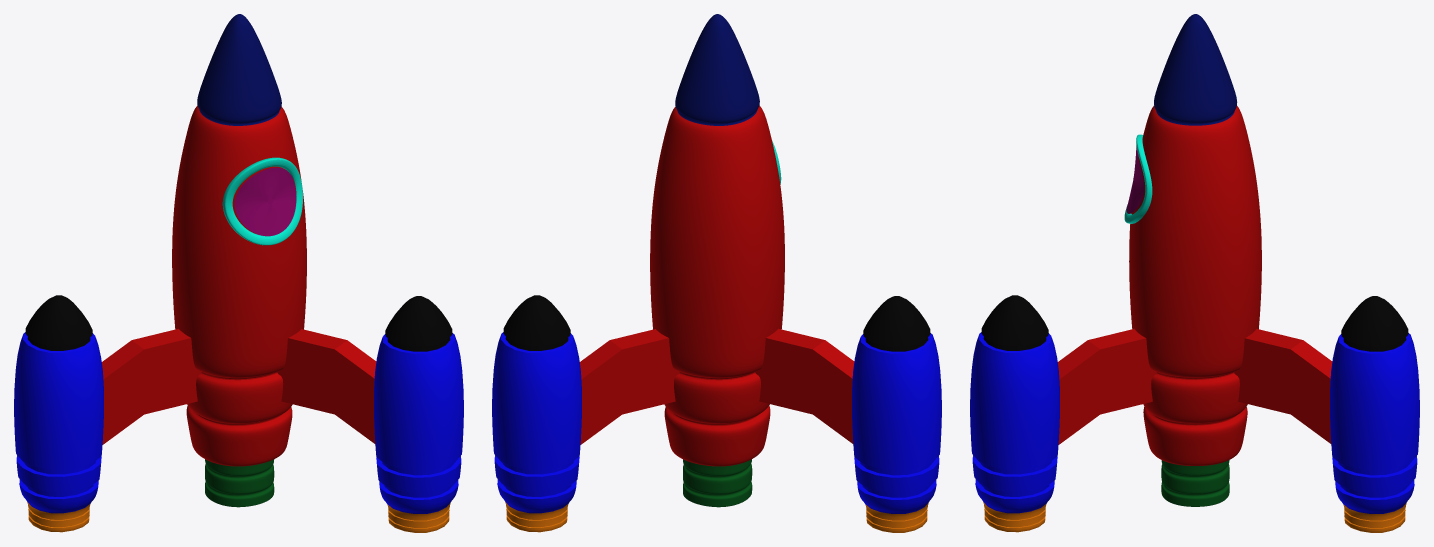
Rendered from Rocket.fbx.
3 renders of one model, left to right at view 1: azimuth 30°, elevation 25°; view 2: azimuth 150°, elevation 25°; view 3: azimuth 270°, elevation 25°, orthographic.
Parts seen in each view (by area): view 1: Cube.001; view 2: Cube.001; view 3: Cube.001.
Part boxes in pixels (x1,y1,x2,y2): Cube.001: (14, 14, 463, 532); Cube.001: (492, 14, 941, 532); Cube.001: (970, 14, 1419, 532).
Bounding box in the file's own units: 777 × 1019 × 868.
